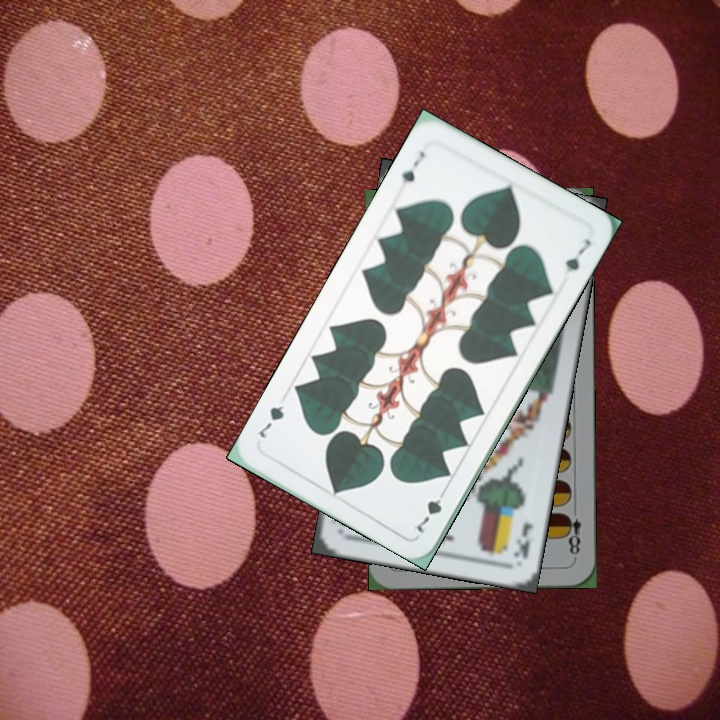E8: (561, 510, 584, 562)
EK: (509, 518, 537, 562)
G7: (409, 483, 450, 536), (397, 146, 428, 187)
